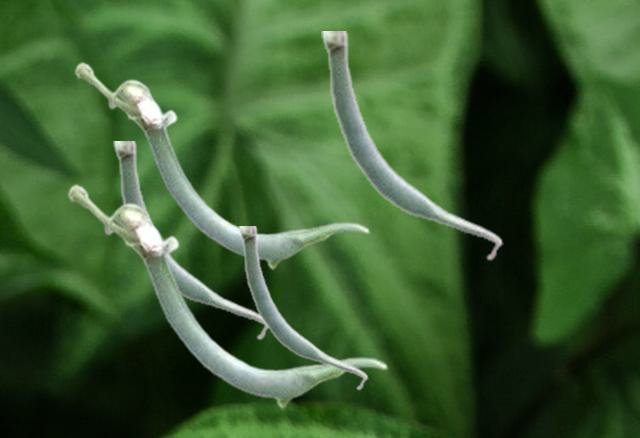french_bean: (67, 183, 387, 408), (74, 61, 369, 269), (321, 31, 502, 261), (113, 141, 269, 340), (238, 226, 367, 390)
